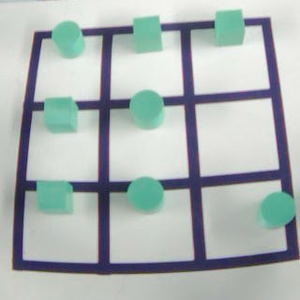cube: (34, 91, 86, 140), (206, 4, 255, 54), (126, 10, 170, 62), (29, 175, 81, 219)
cylinder: (122, 86, 174, 135), (253, 186, 300, 237), (47, 16, 92, 65), (121, 173, 171, 217)
empty: (189, 96, 285, 184)
